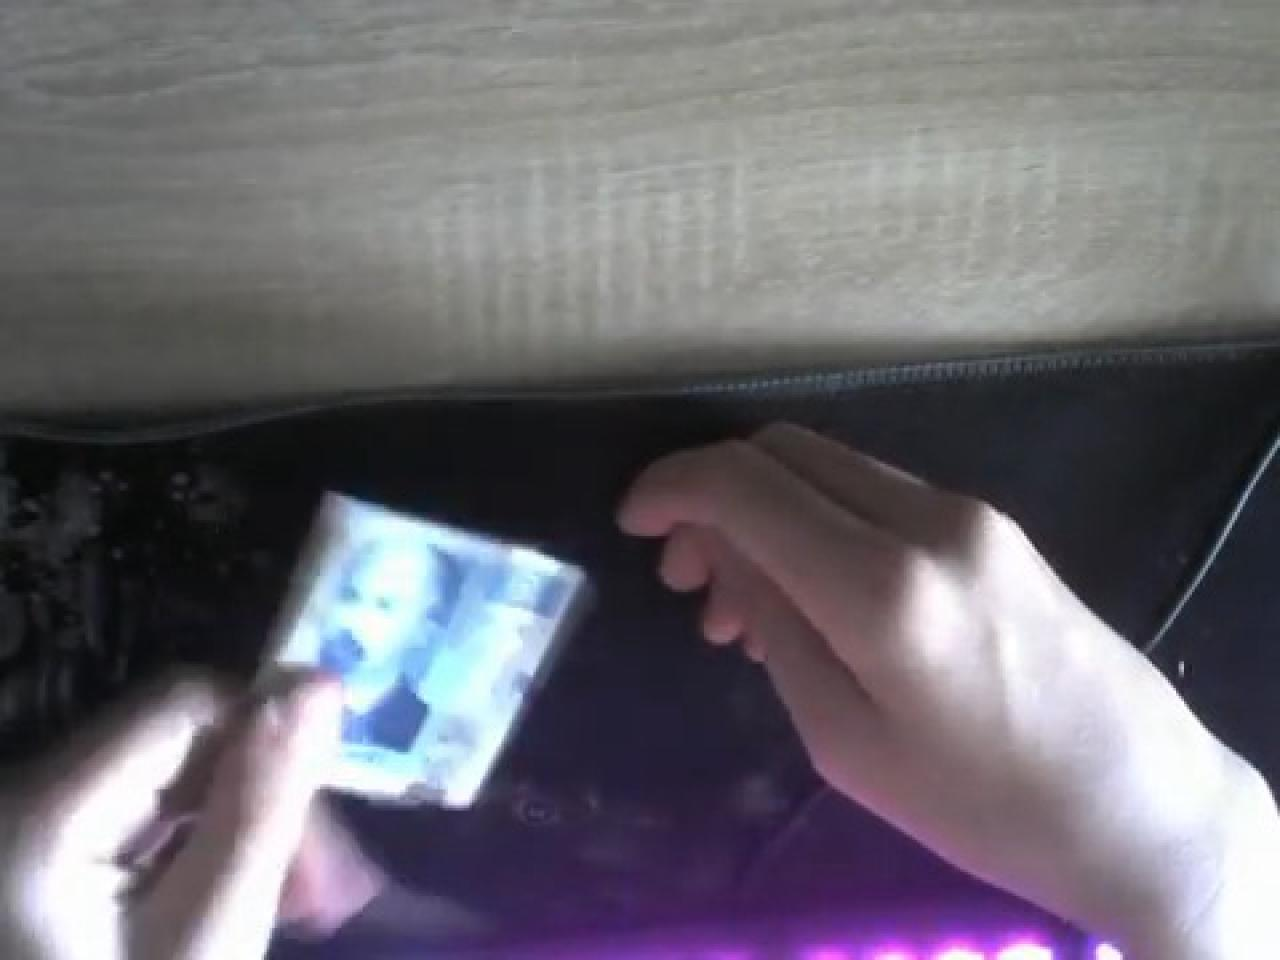20leva: (246, 483, 598, 816)
